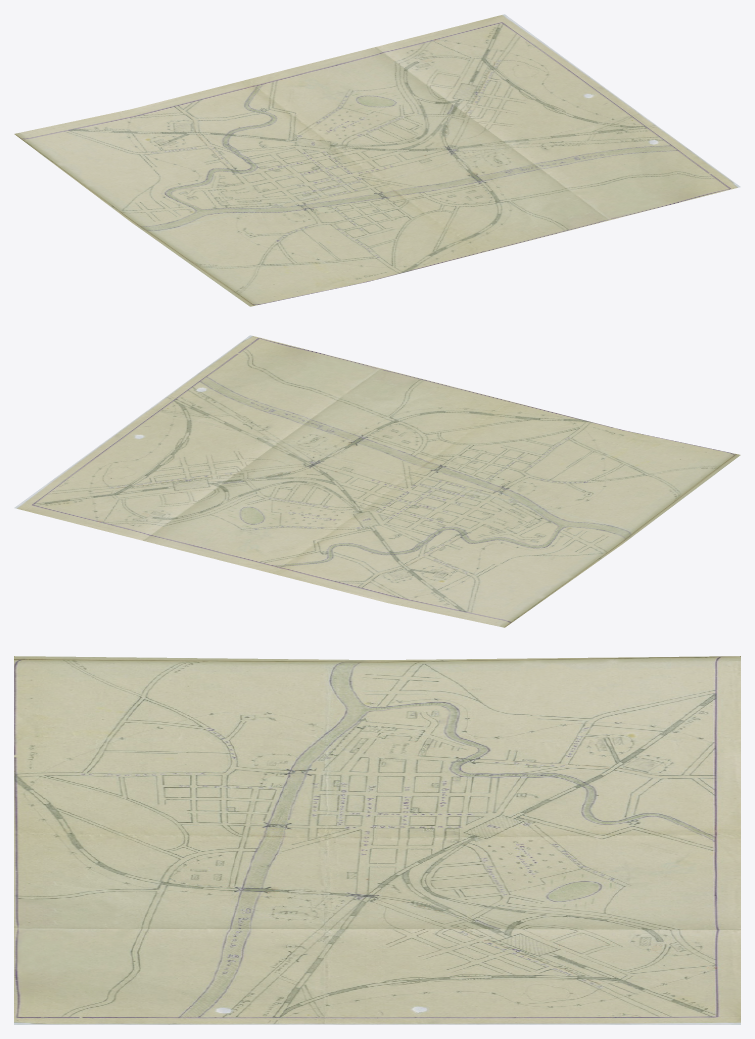
File: PolotskMap.FBX
3 views of the same model, one above another, from view 1: azimuth 30°, elevation 25°; view 2: azimuth 150°, elevation 25°; view 3: azimuth 270°, elevation 25° (orthographic). The views are drawn at different scales.
Visible parts, largest first — view 1: Plane001; view 2: Plane001; view 3: Plane001.
Boxes of the visible parts, <box> form: Plane001: <box>14,14,740,306</box>; Plane001: <box>14,335,740,627</box>; Plane001: <box>14,656,740,1024</box>.
Bounding box in the file's own units: 60 × 0.603 × 50.
